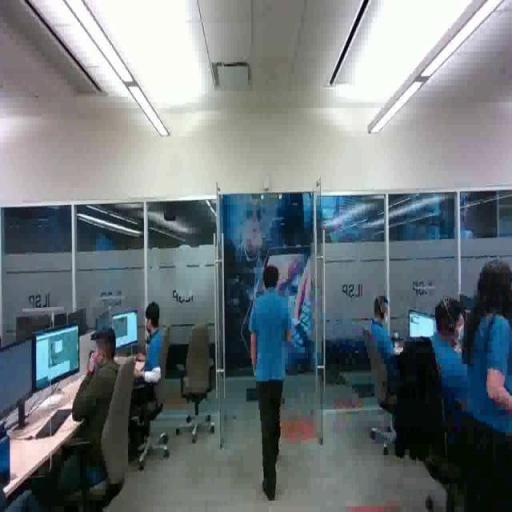person: (53, 323, 133, 504), (247, 261, 296, 506), (467, 260, 512, 502), (120, 299, 185, 444), (410, 300, 474, 439), (360, 289, 414, 449)
